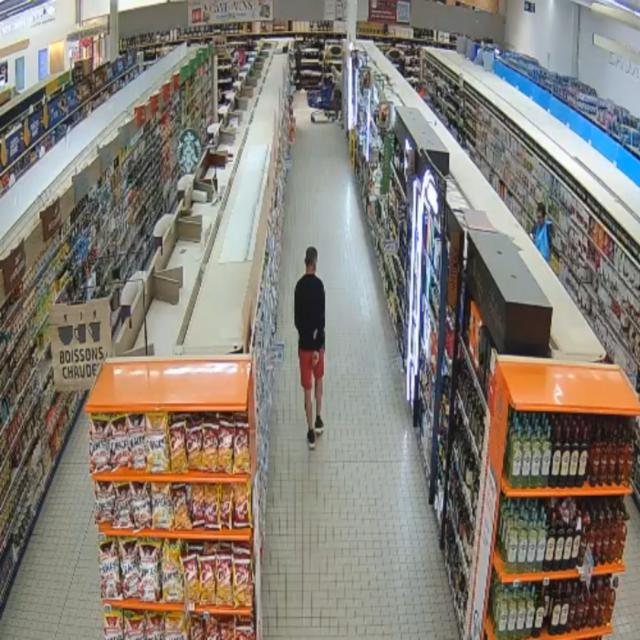hands: (312, 351, 320, 367), (312, 329, 318, 340)
person: (295, 247, 325, 449), (532, 203, 551, 261)
